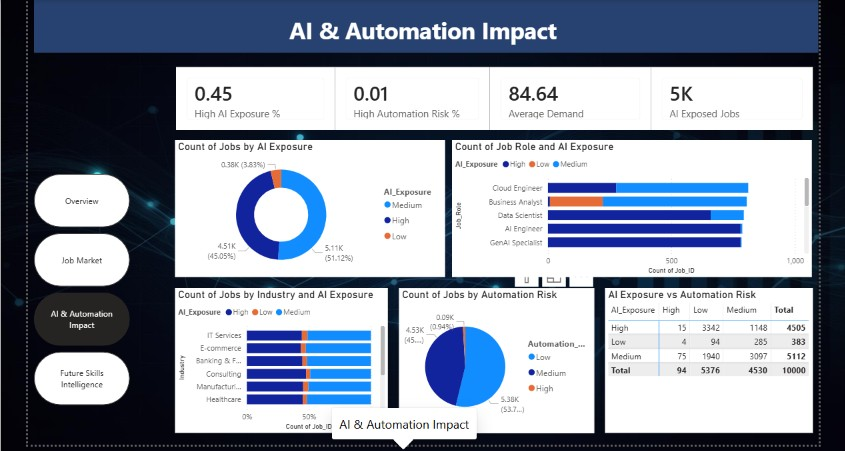

Layout of this report page (visuals, bound fields, positions):
{"tool":"powerbi","page":{"name":"AI & Automation Impact ","canvas":[1280,720],"ordinal":2},"visuals":[{"type":"textbox","box":[10,0,1270,85],"z":0},{"type":"pageNavigator","box":[9.7,281.7,155.4,375.7],"z":1000},{"type":"cardVisual","fields":{"Data":["AI_Jobs.High AI Exposure %"]},"box":[239.6,108.5,257.5,102],"z":2000},{"type":"cardVisual","fields":{"Data":["AI_Jobs.High Automation Risk %"]},"box":[497.1,108.5,251,102],"z":3000},{"type":"cardVisual","fields":{"Data":["AI_Jobs.Average Demand"]},"box":[748.1,108.5,260.7,102],"z":4000},{"type":"cardVisual","fields":{"Data":["AI_Jobs.AI Exposed Jobs"]},"box":[1008.8,108.5,262.3,102],"z":5000},{"type":"donutChart","title":"Count of Jobs by AI Exposure","fields":{"Category":["AI_Jobs.AI_Exposure"],"Y":["CountNonNull(AI_Jobs.Job_ID)"]},"box":[238,226.7,437.2,221.8],"z":6000},{"type":"pieChart","title":"Count of Jobs by Automation Risk","fields":{"Category":["AI_Jobs.Automation_Risk"],"Y":["CountNonNull(AI_Jobs.Job_ID)"]},"box":[600.7,466.3,315.7,234.8],"z":7000},{"type":"barChart","title":"Count of Job Role and AI Exposure","fields":{"Category":["AI_Jobs.Job_Role"],"Y":["CountNonNull(AI_Jobs.Job_ID)"],"Series":["AI_Jobs.AI_Exposure"]},"box":[686.6,226.7,582.9,221.8],"z":8000},{"type":"pivotTable","title":"AI Exposure vs Automation Risk","fields":{"Rows":["AI_Jobs.AI_Exposure"],"Columns":["AI_Jobs.Automation_Risk"],"Values":["Count(AI_Jobs.Job_ID)"]},"box":[934.3,466.3,336.8,234.8],"z":9000},{"type":"hundredPercentStackedBarChart","title":"Count of Jobs by Industry and AI Exposure","fields":{"Category":["AI_Jobs.Industry"],"Y":["CountNonNull(AI_Jobs.Job_ID)"],"Series":["AI_Jobs.AI_Exposure"]},"box":[238,466.3,344.9,234.8],"z":10000}]}

Visuals, with their boxes in screenshot pixels (x1, y1, x2, y2):
textbox: 33 0 817 50
pageNavigator: 32 172 128 404
cardVisual - AI_Jobs.High AI Exposure %: 174 65 334 128
cardVisual - AI_Jobs.High Automation Risk %: 334 65 489 128
cardVisual - AI_Jobs.Average Demand: 489 65 650 128
cardVisual - AI_Jobs.AI Exposed Jobs: 650 65 812 128
"Count of Jobs by AI Exposure" donutChart: 173 138 444 275
"Count of Jobs by Automation Risk" pieChart: 398 286 593 431
"Count of Job Role and AI Exposure" barChart: 451 138 811 275
"AI Exposure vs Automation Risk" pivotTable: 604 286 812 431
"Count of Jobs by Industry and AI Exposure" hundredPercentStackedBarChart: 173 286 387 431
